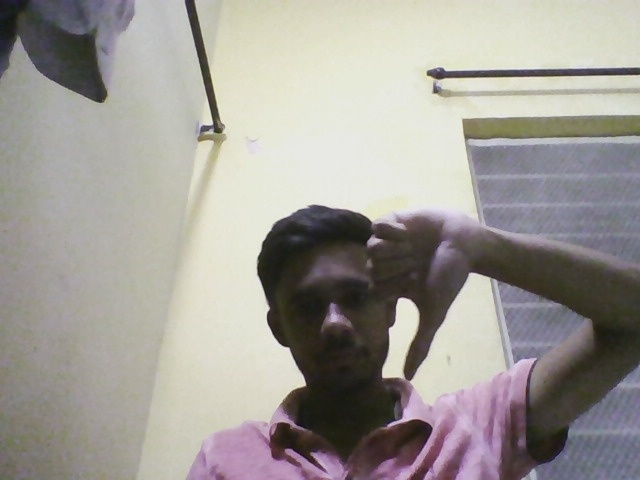no: (358, 199, 482, 397)
